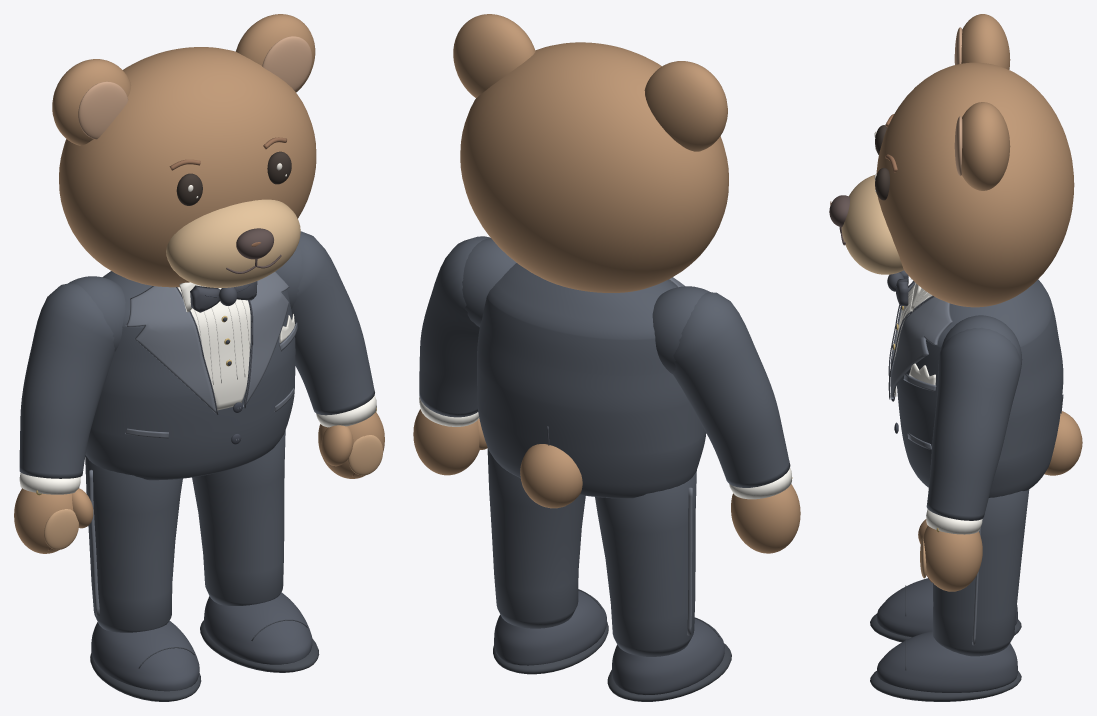
The model's file is tuxedo_bear.glb.
3 views of the same model, side by side, from view 1: azimuth 30°, elevation 25°; view 2: azimuth 150°, elevation 25°; view 3: azimuth 270°, elevation 25° (orthographic). The views are drawn at different scales.
Visible parts, largest first — view 1: Bear_Head, Tuxedo_Jacket_Body, Right_Jacket_Sleeve, Right_Trouser_Leg, Left_Trouser_Leg, Left_Jacket_Sleeve, Caramel_Muzzle, Left_Dress_Shoe, Right_Dress_Shoe, Right_Peaked_Satin_Lapel, Pleated_White_Shirt_Bib, Left_Peaked_Satin_Lapel (+21 smaller); view 2: Bear_Head, Tuxedo_Jacket_Body, Right_Trouser_Leg, Right_Jacket_Sleeve, Left_Trouser_Leg, Left_Jacket_Sleeve, Right_Ear, Right_Dress_Shoe, Left_Ear, Left_Dress_Shoe, Right_Paw, Bear_Tail (+8 smaller); view 3: Bear_Head, Tuxedo_Jacket_Body, Left_Jacket_Sleeve, Left_Trouser_Leg, Left_Dress_Shoe, Caramel_Muzzle, Left_Ear, Left_Paw, Left_Peaked_Satin_Lapel, Right_Dress_Shoe, Right_Ear, Bear_Tail (+7 smaller).
Part boxes in pixels (left/top/right/bottom): Bear_Head: left=59, top=47, right=316, bottom=287; Tuxedo_Jacket_Body: left=85, top=271, right=295, bottom=480; Right_Jacket_Sleeve: left=19, top=283, right=114, bottom=478; Right_Trouser_Leg: left=85, top=455, right=182, bottom=632; Left_Trouser_Leg: left=192, top=430, right=285, bottom=605; Left_Jacket_Sleeve: left=291, top=231, right=374, bottom=415; Caramel_Muzzle: left=166, top=199, right=300, bottom=287; Left_Dress_Shoe: left=204, top=592, right=312, bottom=664; Right_Dress_Shoe: left=91, top=620, right=199, bottom=691; Right_Peaked_Satin_Lapel: left=125, top=286, right=216, bottom=413; Pleated_White_Shirt_Bib: left=178, top=287, right=250, bottom=410; Left_Peaked_Satin_Lapel: left=243, top=272, right=289, bottom=407; Bear_Head: left=460, top=42, right=728, bottom=292; Tuxedo_Jacket_Body: left=477, top=263, right=706, bottom=498; Right_Trouser_Leg: left=595, top=470, right=696, bottom=656; Right_Jacket_Sleeve: left=673, top=292, right=790, bottom=487; Left_Trouser_Leg: left=487, top=448, right=585, bottom=628; Left_Jacket_Sleeve: left=419, top=236, right=491, bottom=417; Right_Ear: left=644, top=61, right=727, bottom=151; Right_Dress_Shoe: left=611, top=618, right=724, bottom=694; Left_Ear: left=453, top=14, right=535, bottom=97; Left_Dress_Shoe: left=494, top=590, right=606, bottom=665; Right_Paw: left=731, top=484, right=800, bottom=553; Bear_Tail: left=520, top=444, right=582, bottom=508; Bear_Head: left=876, top=62, right=1074, bottom=307; Tuxedo_Jacket_Body: left=897, top=279, right=1063, bottom=497; Left_Jacket_Sleeve: left=926, top=327, right=1021, bottom=520; Left_Trouser_Leg: left=932, top=489, right=1029, bottom=656; Left_Dress_Shoe: left=877, top=631, right=1017, bottom=692; Caramel_Muzzle: left=841, top=175, right=903, bottom=274; Left_Ear: left=961, top=102, right=1010, bottom=190; Left_Paw: left=923, top=526, right=982, bottom=591; Left_Peaked_Satin_Lapel: left=890, top=296, right=952, bottom=398; Right_Dress_Shoe: left=877, top=578, right=1017, bottom=637; Right_Ear: left=961, top=14, right=1010, bottom=69; Bear_Tail: left=1044, top=411, right=1082, bottom=475.
Bounding box in the file's own units: 1.11 × 1.8 × 0.6872.
